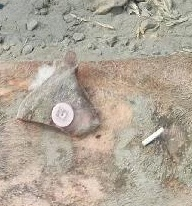text: (44, 89, 86, 134)
